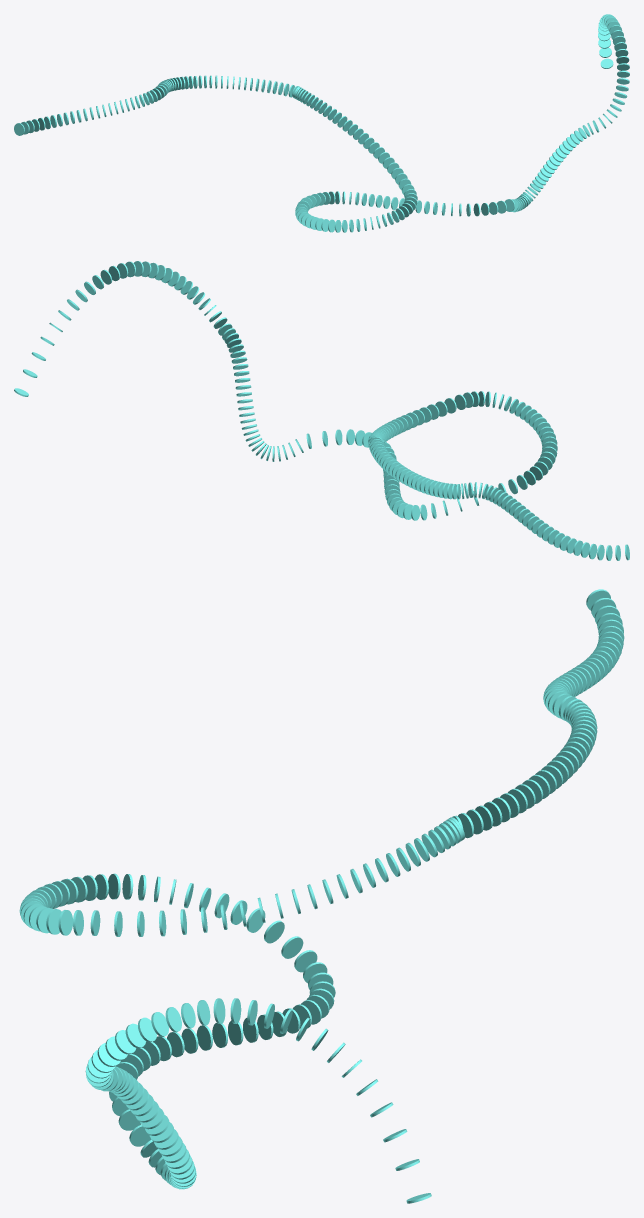
Rendered from LD_CourantMarin (5) 1.fbx.
3 views of the same model, one above another, from view 1: azimuth 30°, elevation 25°; view 2: azimuth 150°, elevation 25°; view 3: azimuth 270°, elevation 25° (orthographic). The views are drawn at different scales.
Size of the model in its own units: 19746 by 5025 by 9385.
